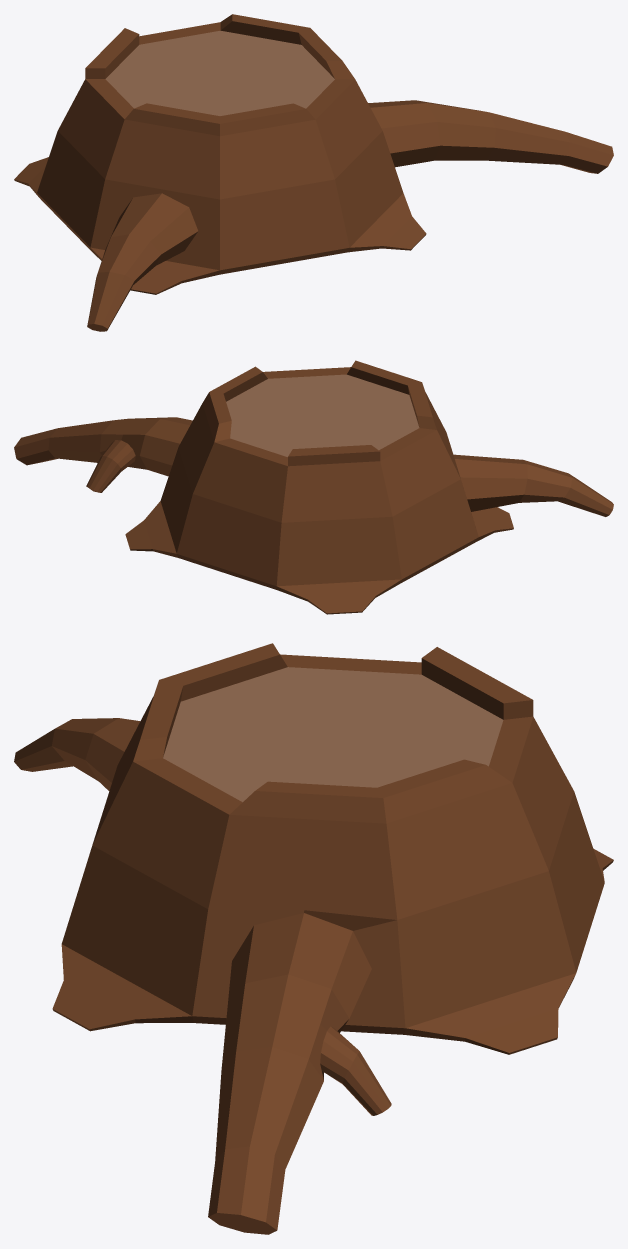
Rendered from Log_3.fbx.
3 views of the same model, one above another, from view 1: azimuth 30°, elevation 25°; view 2: azimuth 150°, elevation 25°; view 3: azimuth 270°, elevation 25° (orthographic). The views are drawn at different scales.
Parts seen in each view (by area): view 1: Log_3; view 2: Log_3; view 3: Log_3.
Part boxes in pixels (x1=…): Log_3: x1=14, y1=14, x2=613, y2=331; Log_3: x1=14, y1=360, x2=613, y2=614; Log_3: x1=14, y1=643, x2=613, y2=1234.
Bounding box in the file's own units: 182 × 49.65 × 104.
